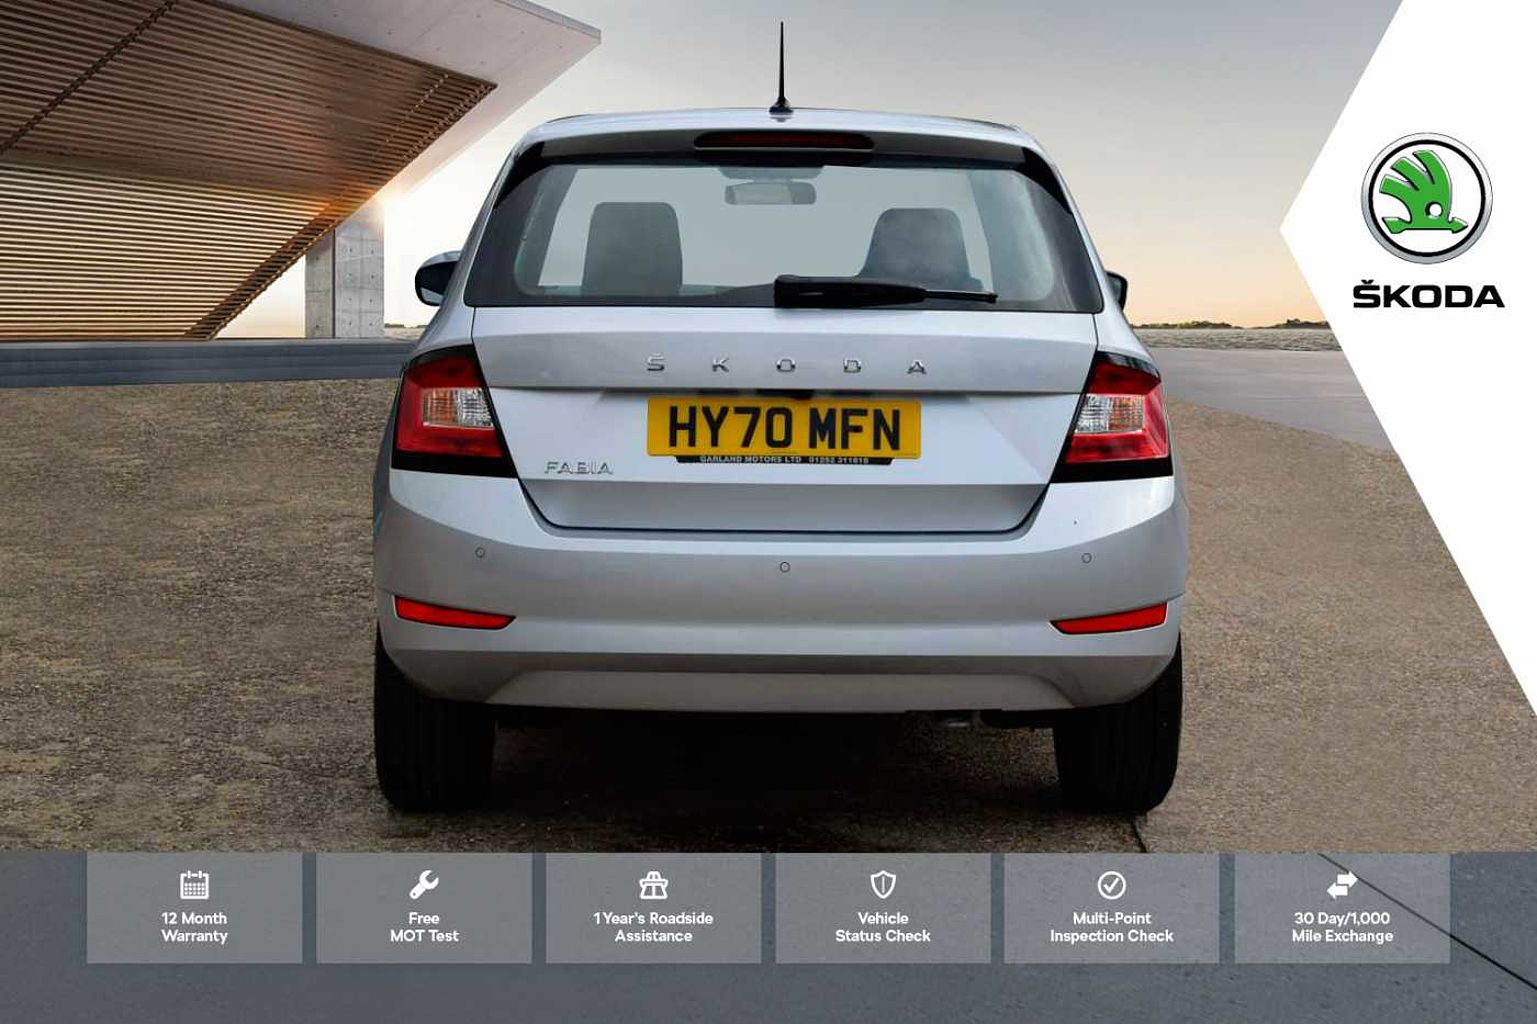licence-plate: (656, 387, 922, 467)
